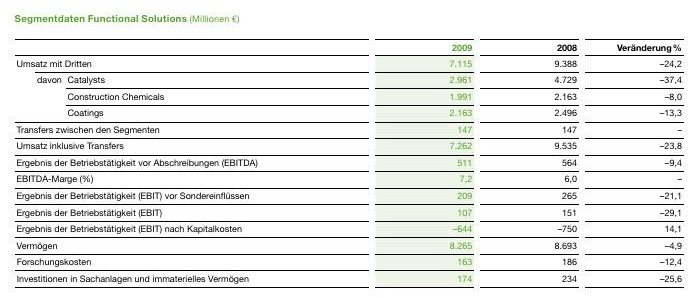table: (0, 0, 694, 298)
